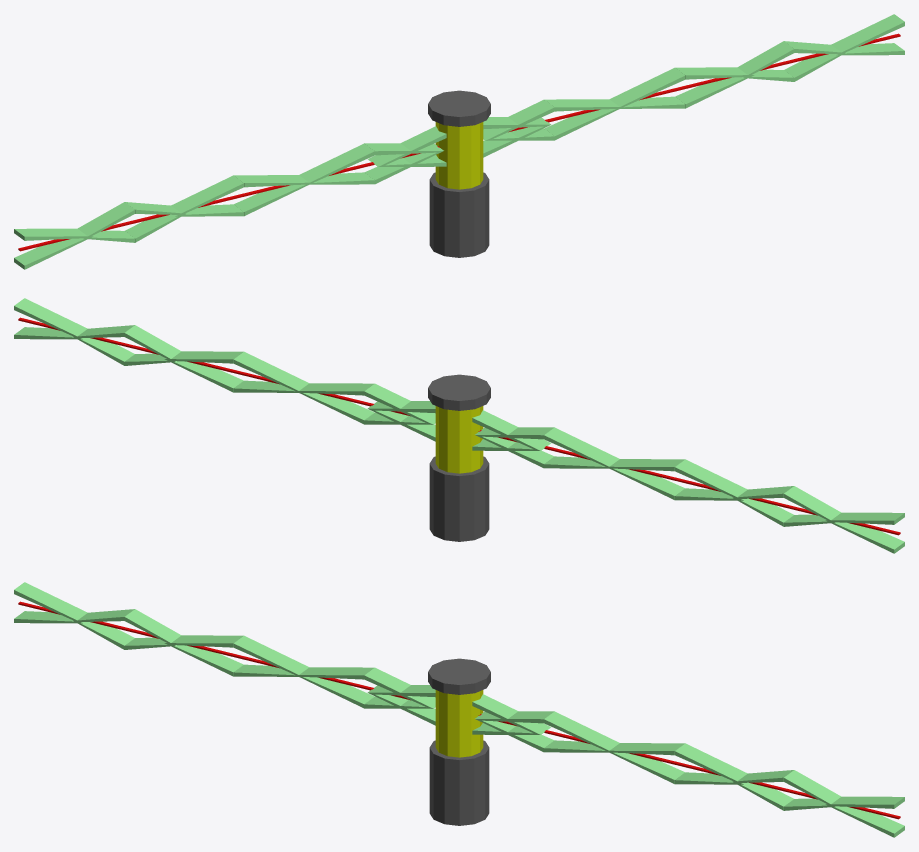
File: LP_SpinTrap.fbx
3 renders of one model, top to bottom at view 1: azimuth 30°, elevation 25°; view 2: azimuth 150°, elevation 25°; view 3: azimuth 330°, elevation 25°, orthographic.
Visible parts, largest first — view 1: LargeSpinTrap; view 2: LargeSpinTrap; view 3: LargeSpinTrap.
Part boxes in pixels (x1,y1,x2,y2): LargeSpinTrap: [14, 14, 904, 269]; LargeSpinTrap: [14, 298, 904, 553]; LargeSpinTrap: [14, 582, 904, 837].
Size of the model in its own units: 14 by 2.15 by 0.8652.
